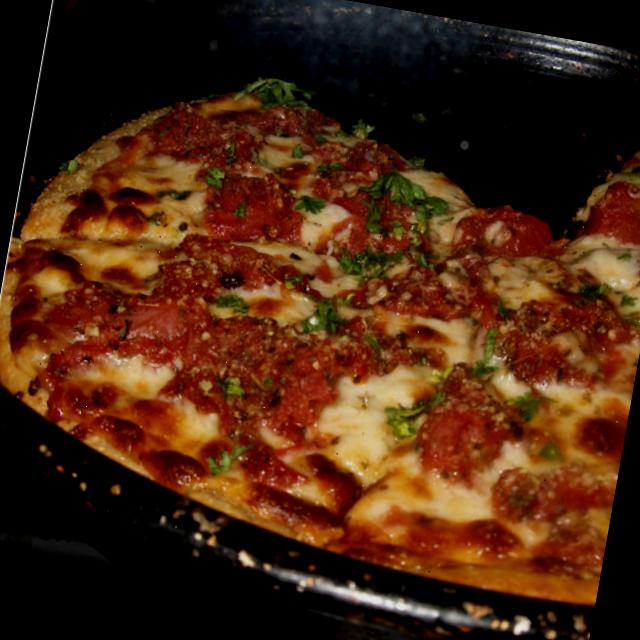pepperoni: (94, 284, 346, 436), (406, 358, 518, 478), (130, 96, 252, 188), (190, 162, 304, 258), (154, 231, 274, 318), (300, 130, 413, 220), (358, 250, 478, 334), (442, 199, 566, 274), (308, 196, 420, 277), (571, 165, 640, 271)
pizza: (0, 79, 640, 602)
